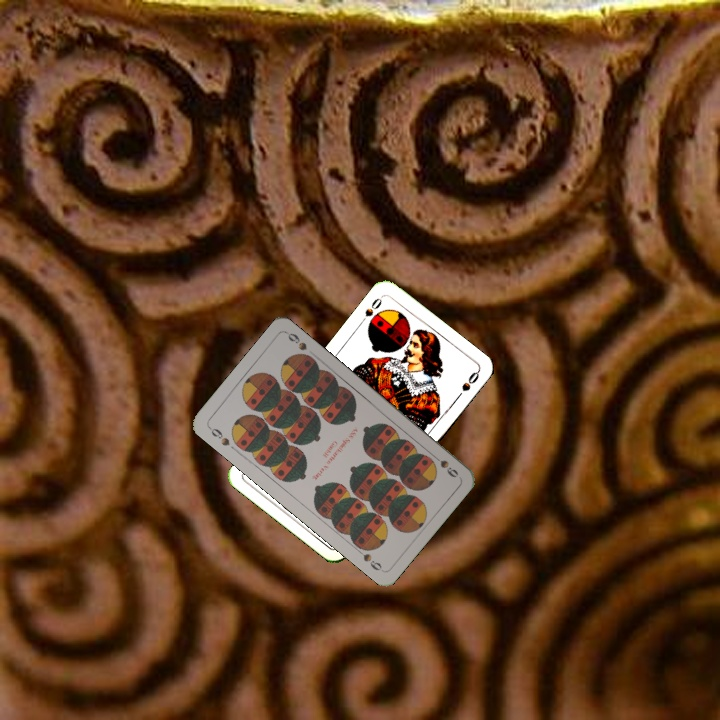S9: (425, 449, 461, 480), (205, 423, 232, 449)
SO: (356, 292, 385, 327)
